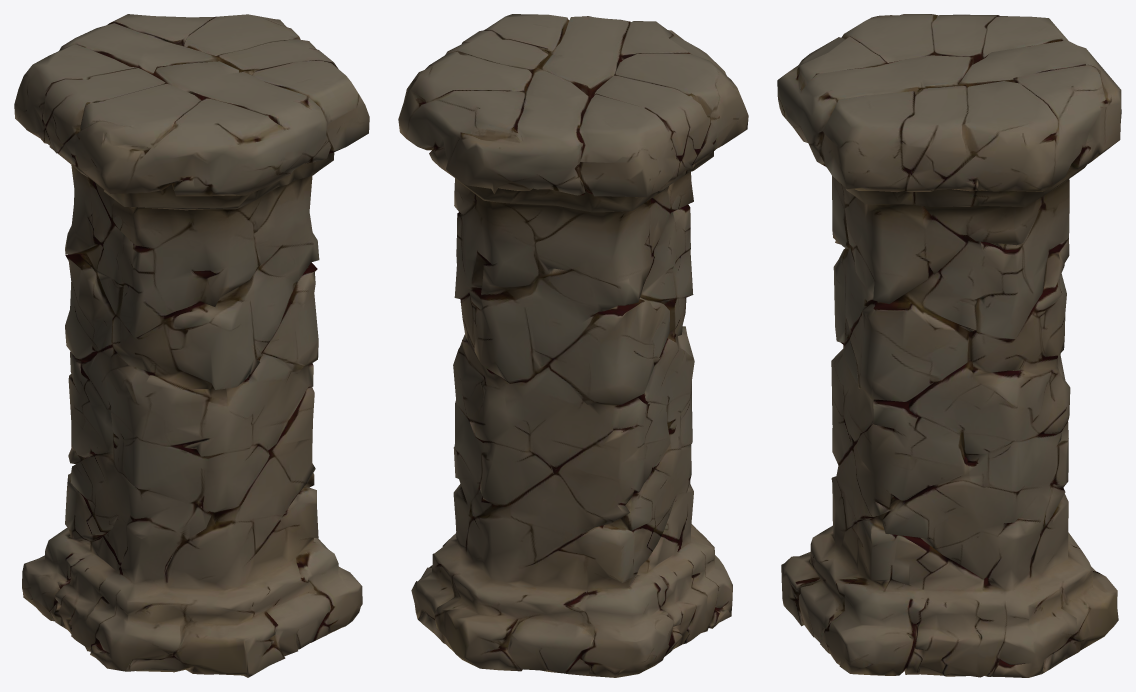
The model's file is dungeon_pillar.glb.
3 renders of one model, left to right at view 1: azimuth 30°, elevation 25°; view 2: azimuth 150°, elevation 25°; view 3: azimuth 270°, elevation 25°, orthographic.
Visible parts, largest first — view 1: tripo_node_ac05e397-e733-4b26-bf6e-fcbc21ea1a34; view 2: tripo_node_ac05e397-e733-4b26-bf6e-fcbc21ea1a34; view 3: tripo_node_ac05e397-e733-4b26-bf6e-fcbc21ea1a34.
Part boxes in pixels (x1=…): tripo_node_ac05e397-e733-4b26-bf6e-fcbc21ea1a34: x1=14, y1=14, x2=369, y2=677; tripo_node_ac05e397-e733-4b26-bf6e-fcbc21ea1a34: x1=398, y1=14, x2=748, y2=677; tripo_node_ac05e397-e733-4b26-bf6e-fcbc21ea1a34: x1=777, y1=14, x2=1121, y2=677.
Size of the model in its own units: 0.5036 by 1 by 0.5674.
Materials: 1 (1 with a texture image).
